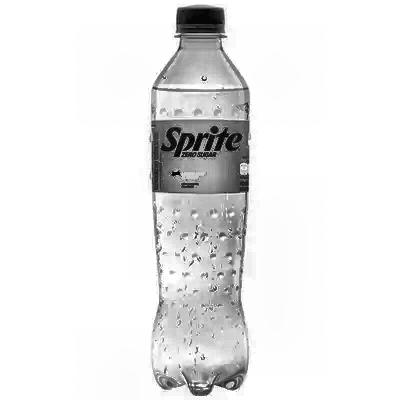waterbottle: (135, 3, 269, 400)
